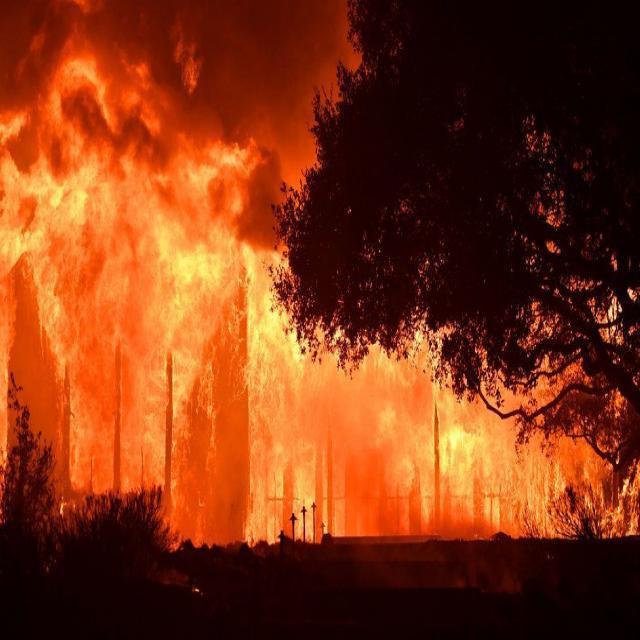Fire: (4, 13, 640, 551)
